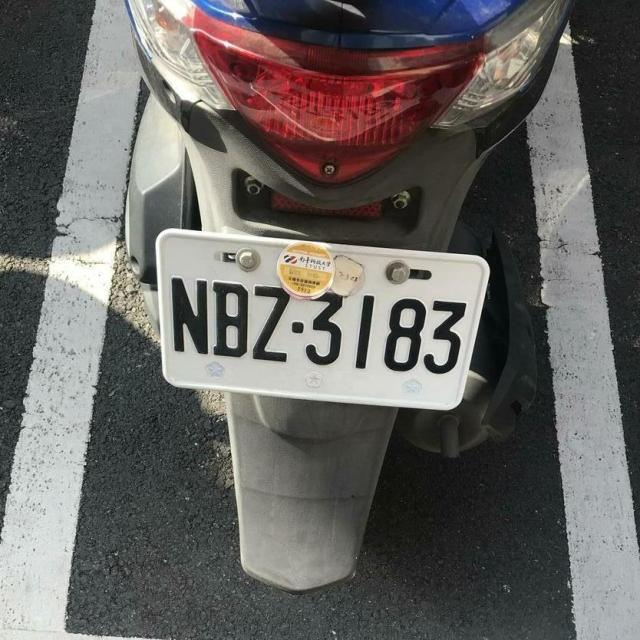W: (145, 226, 490, 412)
